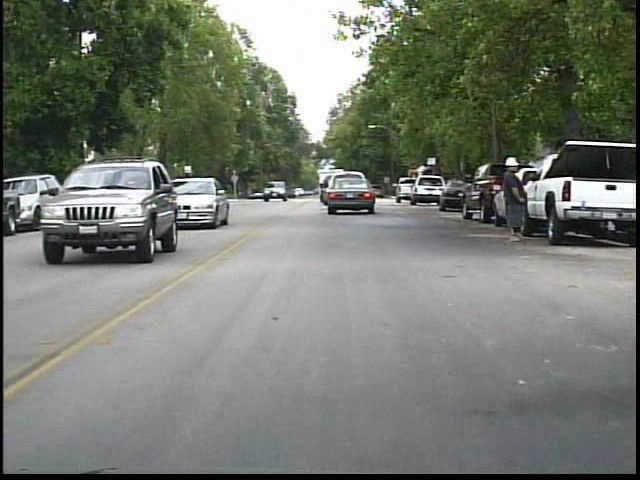person: (497, 153, 529, 243)
